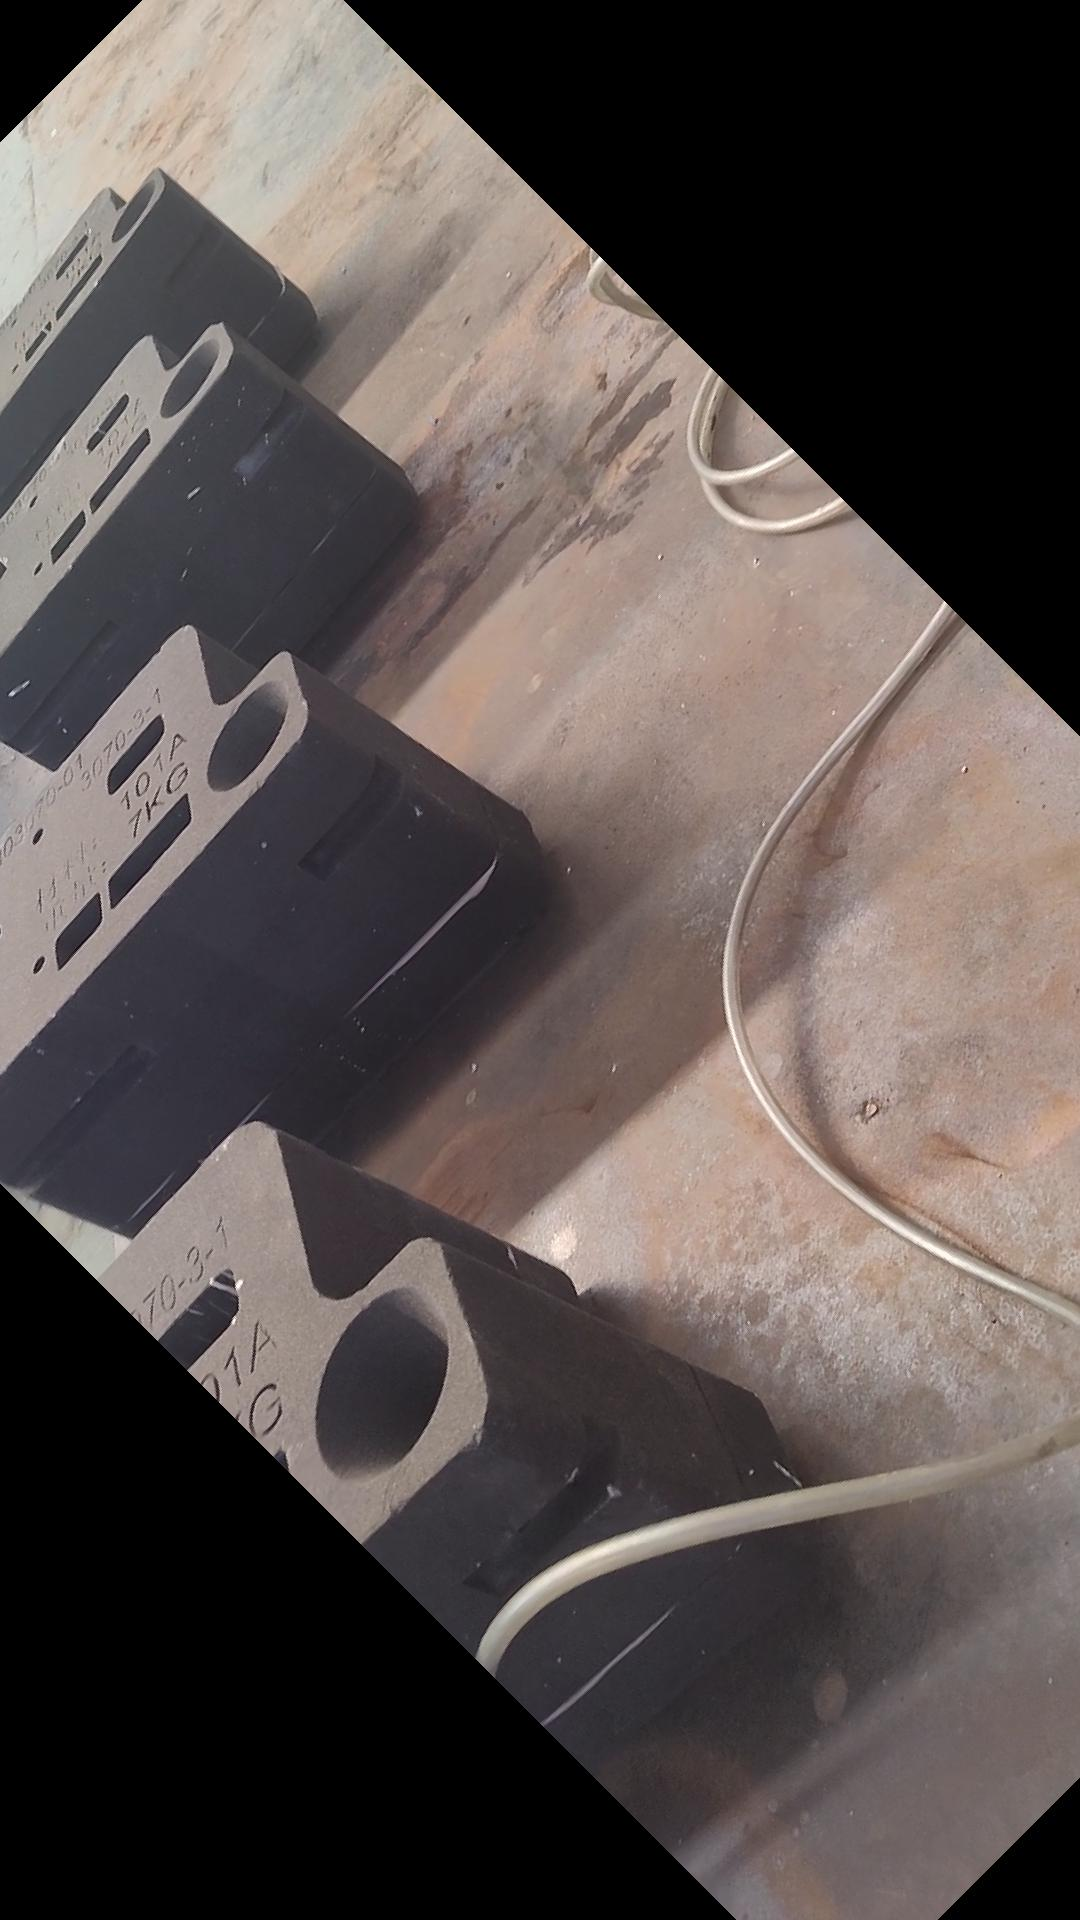pouring hole: (315, 1284, 448, 1485), (206, 676, 291, 791), (158, 338, 222, 421), (112, 178, 156, 241)
